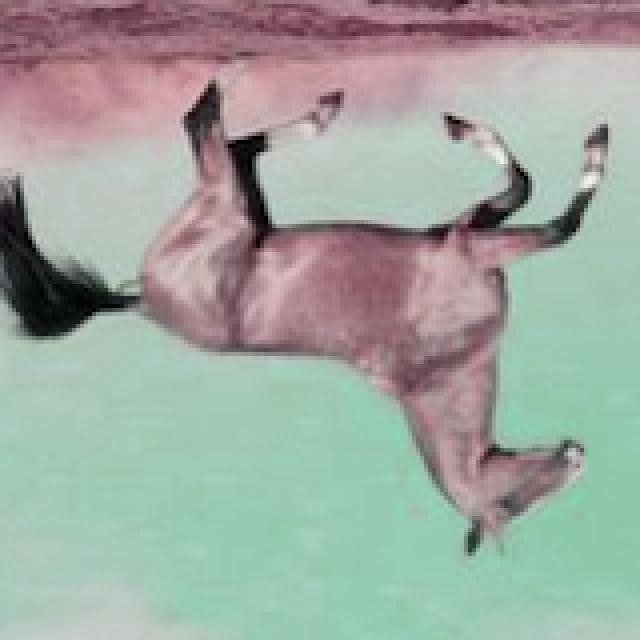Horse: (0, 64, 620, 568)
